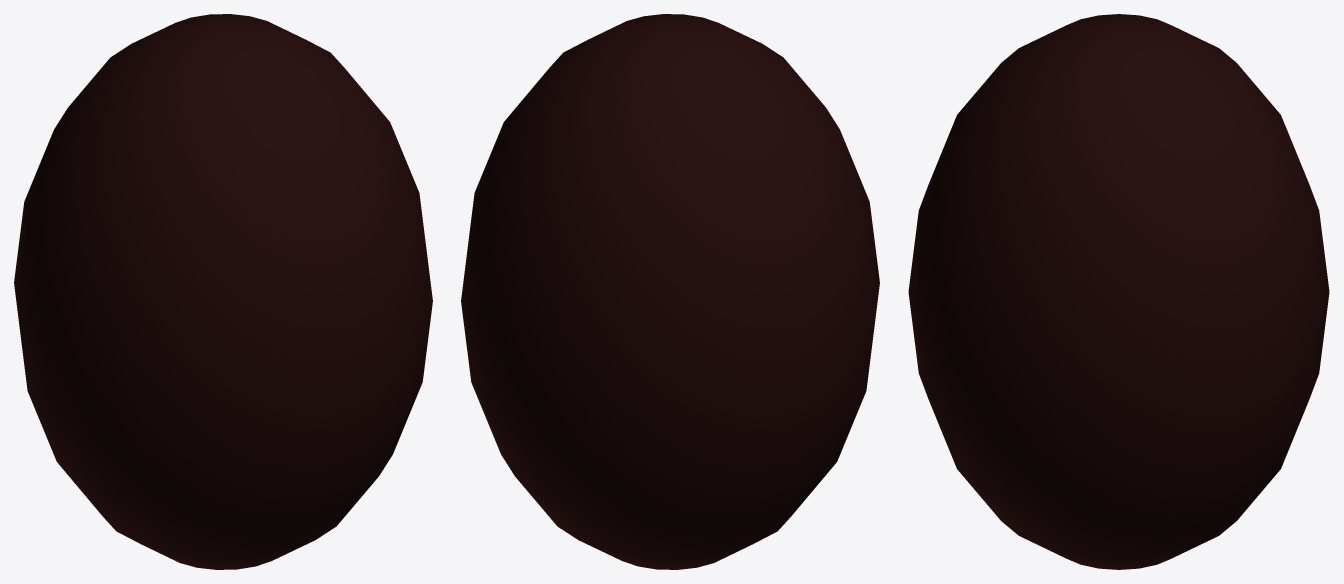
Rendered from Coconut.FBX.
3 renders of one model, left to right at view 1: azimuth 30°, elevation 25°; view 2: azimuth 150°, elevation 25°; view 3: azimuth 270°, elevation 25°, orthographic.
Parts seen in each view (by area): view 1: Sphere001; view 2: Sphere001; view 3: Sphere001.
Part boxes in pixels (bbox=[...]): Sphere001: bbox=[14, 14, 432, 569]; Sphere001: bbox=[461, 14, 879, 569]; Sphere001: bbox=[908, 14, 1329, 569].
Size of the model in its own units: 50.11 by 69.18 by 50.11.
